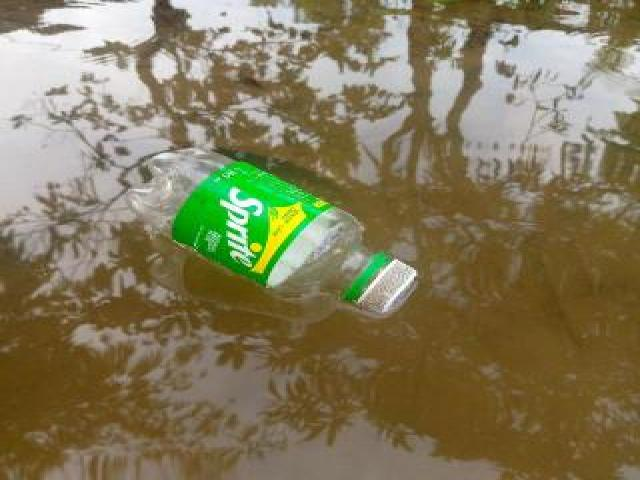Bottle: (132, 114, 434, 326)
